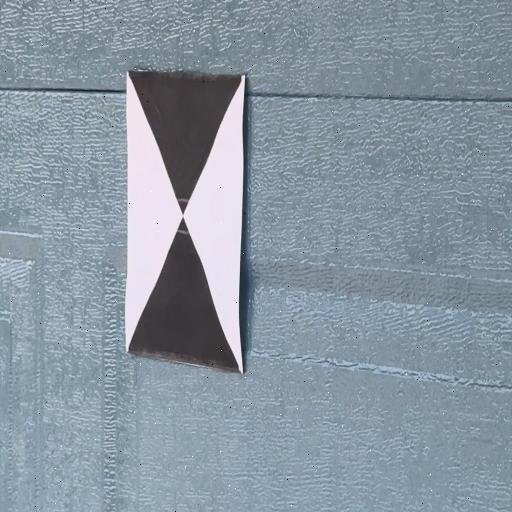target: (126, 74, 243, 361)
